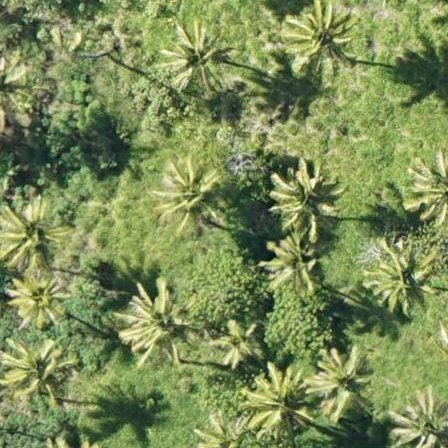palm_tree: (263, 153, 343, 239), (362, 236, 441, 320), (119, 278, 196, 361), (158, 17, 228, 92), (151, 153, 219, 225), (284, 1, 356, 68), (244, 366, 312, 435), (1, 201, 66, 273), (1, 336, 69, 398), (310, 351, 373, 411), (388, 391, 448, 448), (8, 273, 66, 325), (214, 321, 262, 369)
